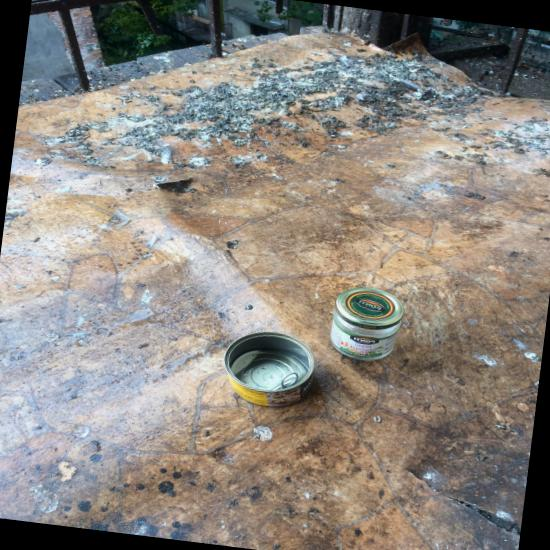Food Can: (224, 332, 315, 407)
Glass jar: (330, 287, 404, 360)
Metal lid: (335, 287, 404, 330)
Pop tab: (281, 373, 298, 389), (283, 374, 296, 385)
